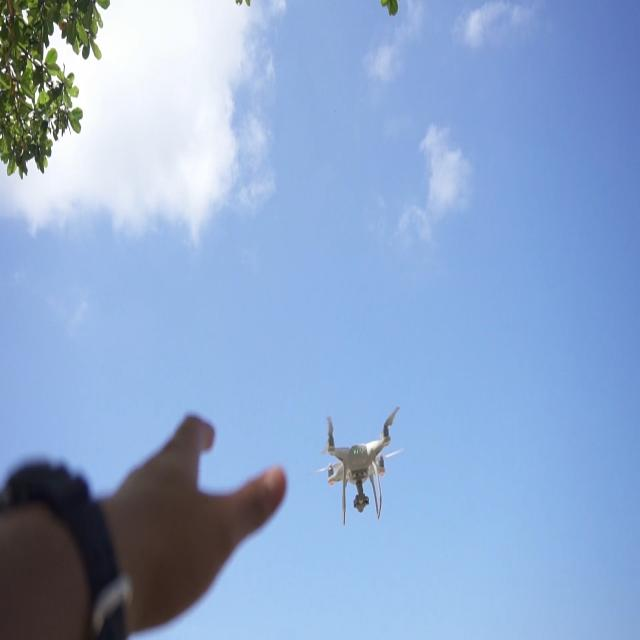Drone: (312, 412, 412, 534)
